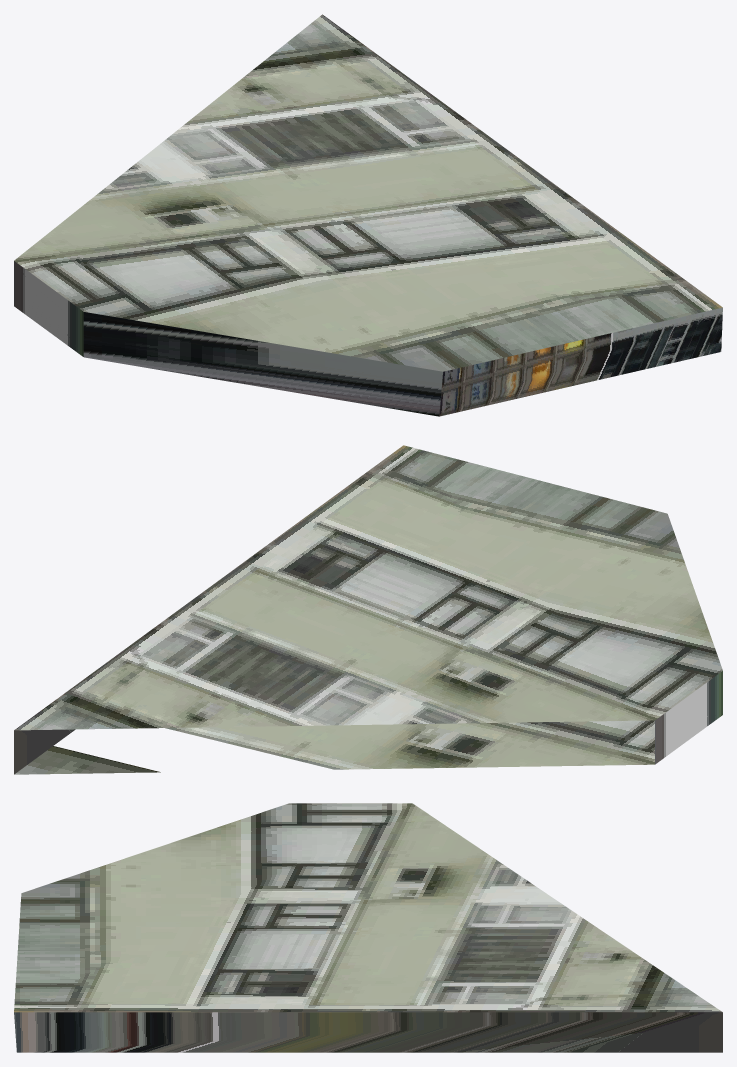
Rendered from 091_lowriseWall_cell_003.gltf.
3 views of the same model, one above another, from view 1: azimuth 30°, elevation 25°; view 2: azimuth 150°, elevation 25°; view 3: azimuth 270°, elevation 25° (orthographic). The views are drawn at different scales.
Parts seen in each view (by area): view 1: lowriseWall_cell_003; view 2: lowriseWall_cell_003; view 3: lowriseWall_cell_003.
Part boxes in pixels (x1,y1,x2,y2): lowriseWall_cell_003: [14, 14, 722, 416]; lowriseWall_cell_003: [14, 445, 722, 774]; lowriseWall_cell_003: [14, 803, 722, 1052].
Size of the model in its own units: 4.09 by 0.3682 by 5.87.
1 material, 1 textured.
